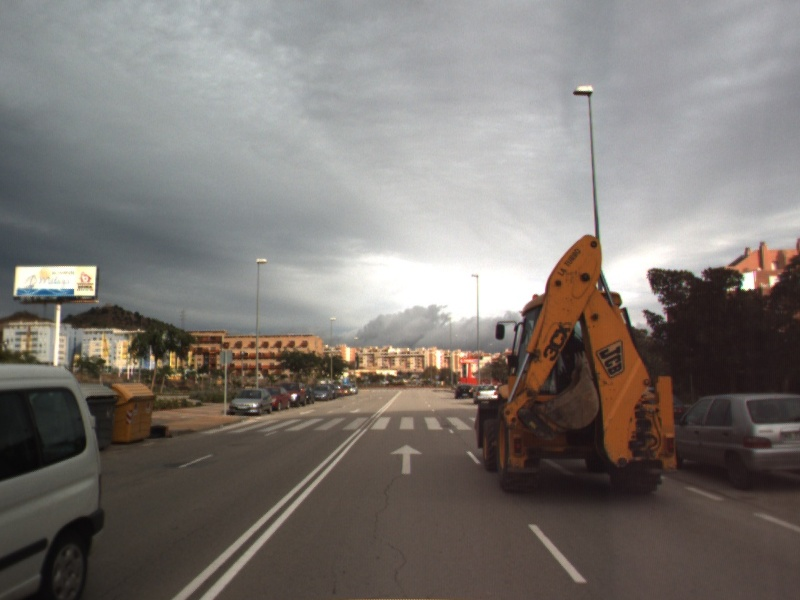STRAIGHT: (388, 442, 424, 476)
